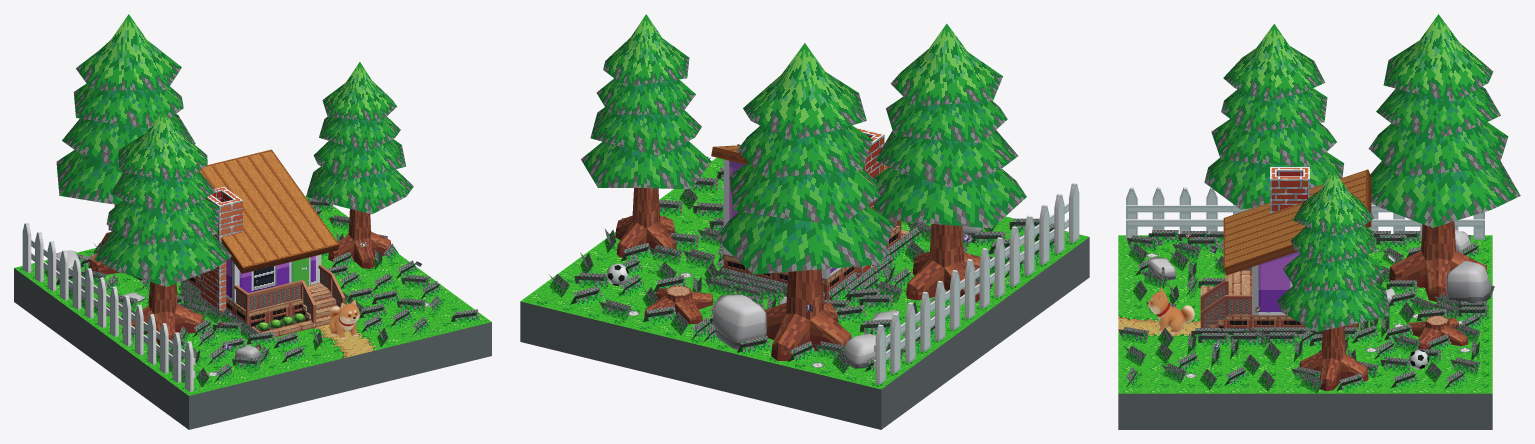
File: dog.glb
The picture shows the model from 3 angles, left to right: view 1: azimuth 30°, elevation 25°; view 2: azimuth 150°, elevation 25°; view 3: azimuth 270°, elevation 25°; orthographic projection. The views are drawn at different scales.
Visible parts, largest first — view 1: ground, tree_01, tree_02, tree_00, house, fence, support, chimney, Box002; view 2: ground, tree_02, tree_01, tree_00, fence, rock_02, tree_stump, house, support, chimney, rock_04; view 3: ground, tree_02, tree_01, tree_00, house, fence, support, chimney, rock_02, tree_stump, Box002, grass_092 (+4 smaller).
Part boxes in pixels (x1=…): ground: x1=14, y1=196, x2=491, y2=429; tree_01: x1=94, y1=110, x2=231, y2=344; tree_02: x1=56, y1=14, x2=195, y2=280; tree_00: x1=306, y1=62, x2=413, y2=268; house: x1=197, y1=149, x2=339, y2=303; fence: x1=22, y1=222, x2=195, y2=391; support: x1=187, y1=264, x2=345, y2=337; chimney: x1=200, y1=187, x2=242, y2=318; Box002: x1=329, y1=299, x2=359, y2=339; ground: x1=520, y1=157, x2=1089, y2=429; tree_02: x1=715, y1=43, x2=894, y2=360; tree_01: x1=872, y1=23, x2=1026, y2=302; tree_00: x1=581, y1=14, x2=711, y2=257; fence: x1=874, y1=182, x2=1079, y2=384; rock_02: x1=712, y1=294, x2=766, y2=349; tree_stump: x1=644, y1=285, x2=713, y2=323; house: x1=711, y1=145, x2=888, y2=278; support: x1=723, y1=219, x2=909, y2=299; chimney: x1=854, y1=127, x2=884, y2=276; rock_04: x1=842, y1=333, x2=888, y2=368; ground: x1=1118, y1=235, x2=1492, y2=429; tree_02: x1=1368, y1=14, x2=1520, y2=301; tree_01: x1=1204, y1=24, x2=1344, y2=209; tree_00: x1=1277, y1=169, x2=1390, y2=391; house: x1=1223, y1=169, x2=1371, y2=315; fence: x1=1126, y1=187, x2=1484, y2=239; support: x1=1200, y1=267, x2=1358, y2=330; chimney: x1=1270, y1=167, x2=1309, y2=213; rock_02: x1=1446, y1=261, x2=1491, y2=304; tree_stump: x1=1407, y1=315, x2=1468, y2=349; Box002: x1=1147, y1=287, x2=1194, y2=333; grass_092: x1=1376, y1=234, x2=1406, y2=248.
Bounding box in the file's own units: 15.11 × 12.57 × 15.06.
Materials: 3 (2 with a texture image).
